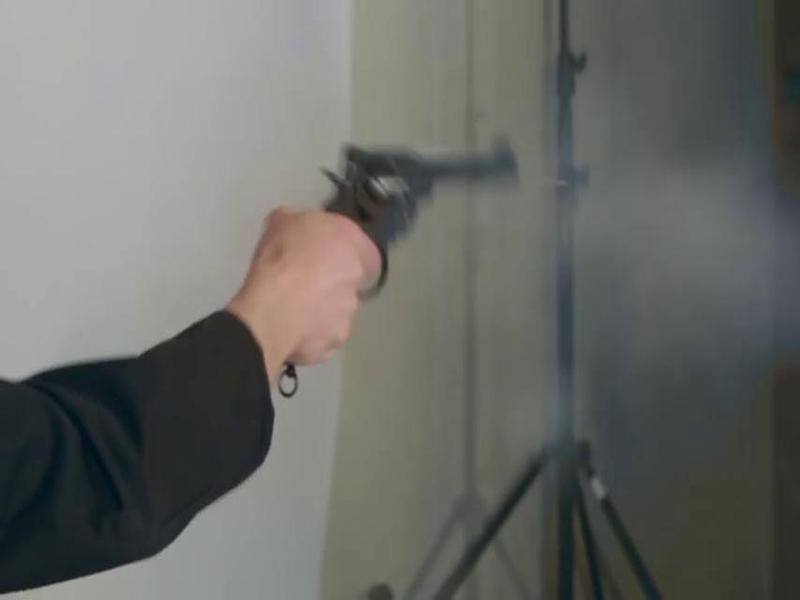Revolver: (297, 122, 538, 317)
